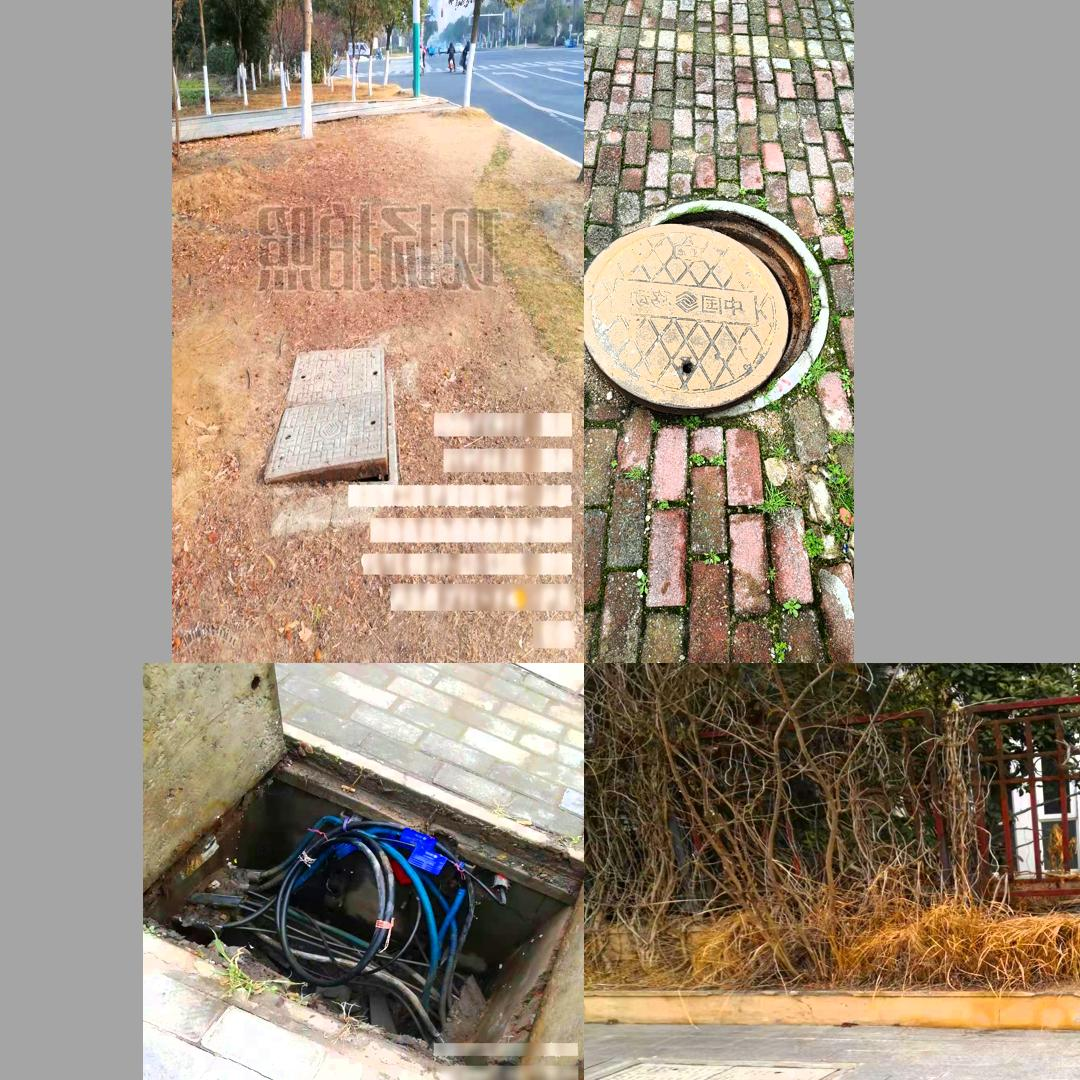good: (584, 1057, 843, 1080)
uncovered: (143, 665, 578, 1080), (584, 201, 829, 416), (264, 340, 394, 499)
